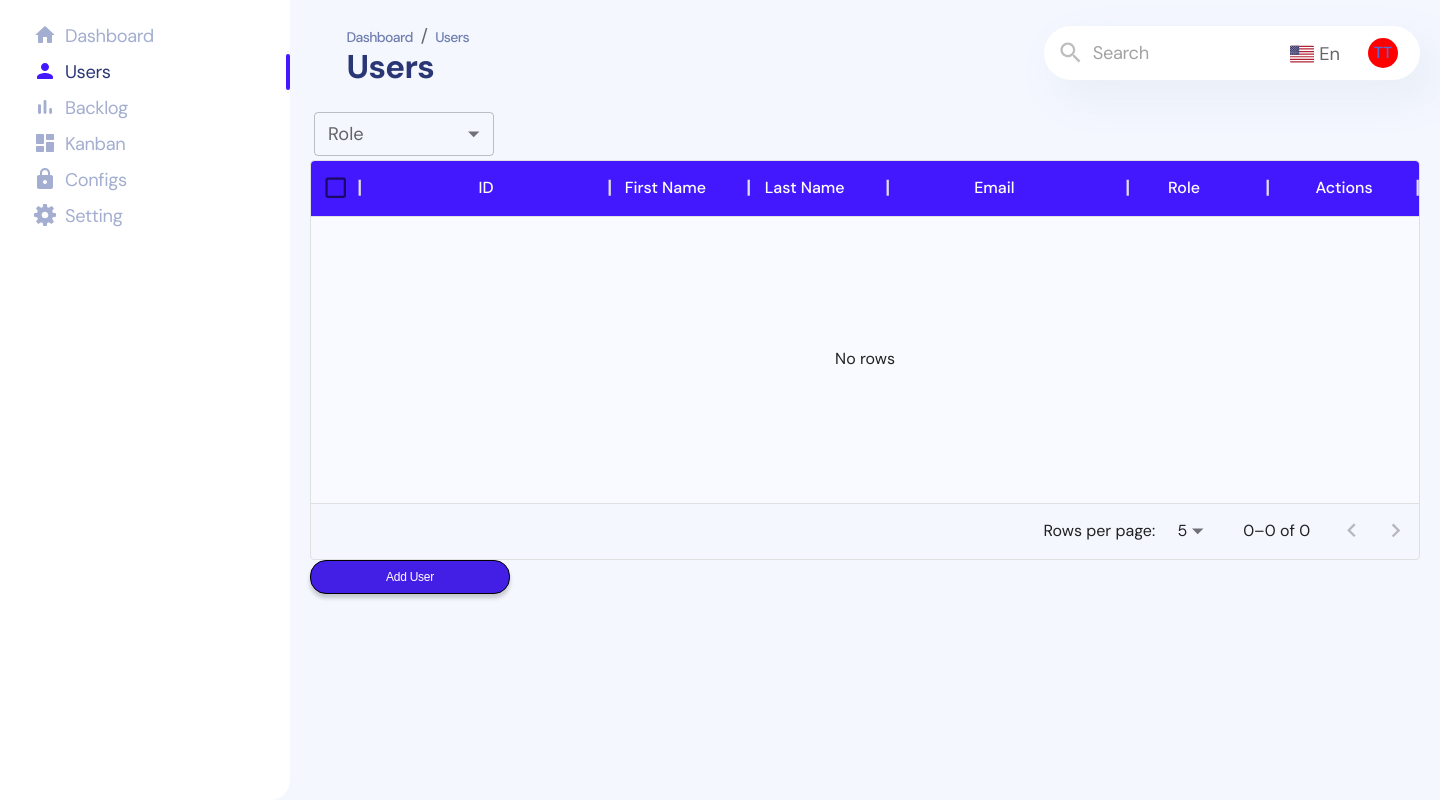
Test: Users API › Should display validation errors if fields are empty and submit is clicked
The width and height of the screenshot is (1440, 800).
Click the button with test id "addUser" at (410, 577), box left=310, top=560, right=510, bottom=594
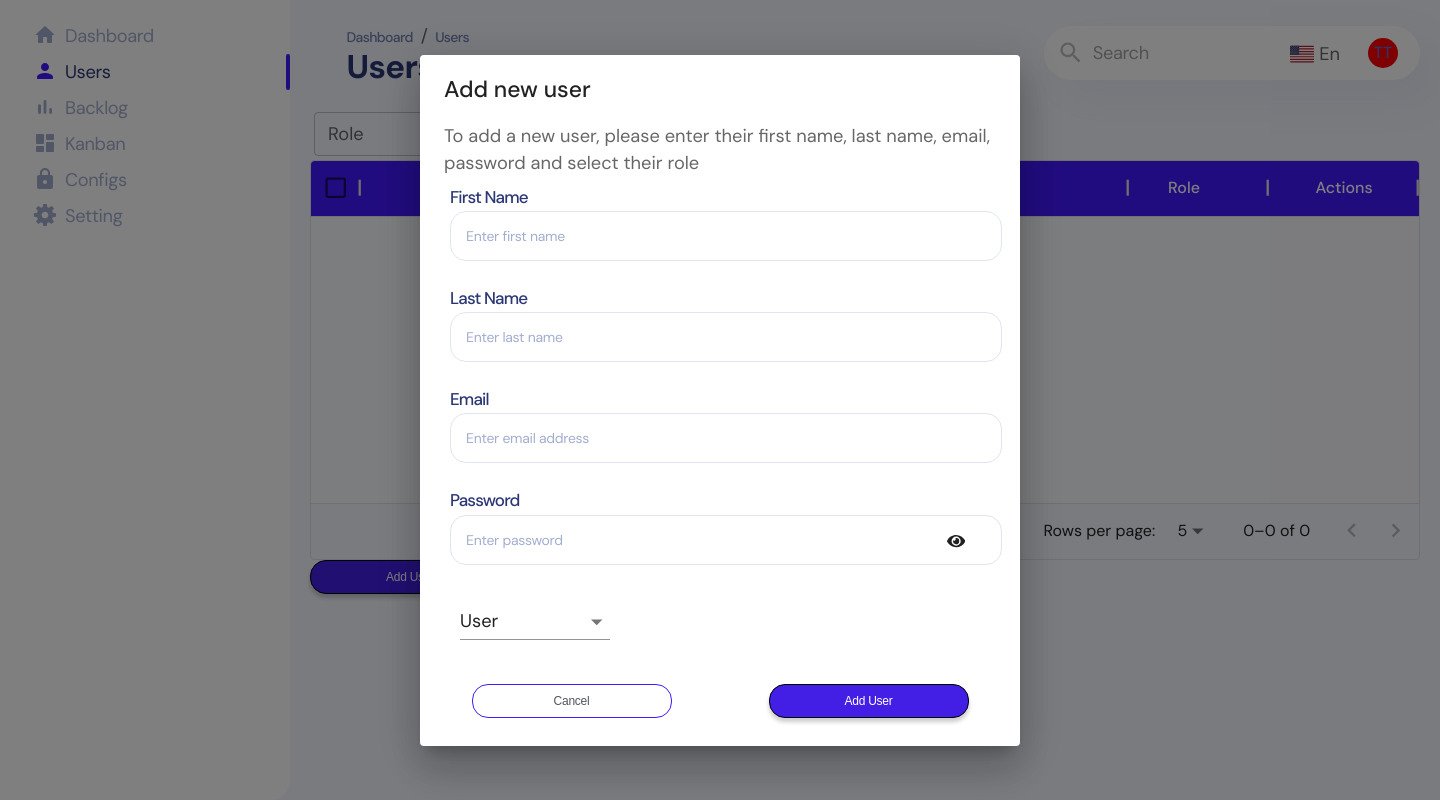
Click the button with test id "addUserSubmit" at (869, 701), box left=769, top=684, right=969, bottom=718
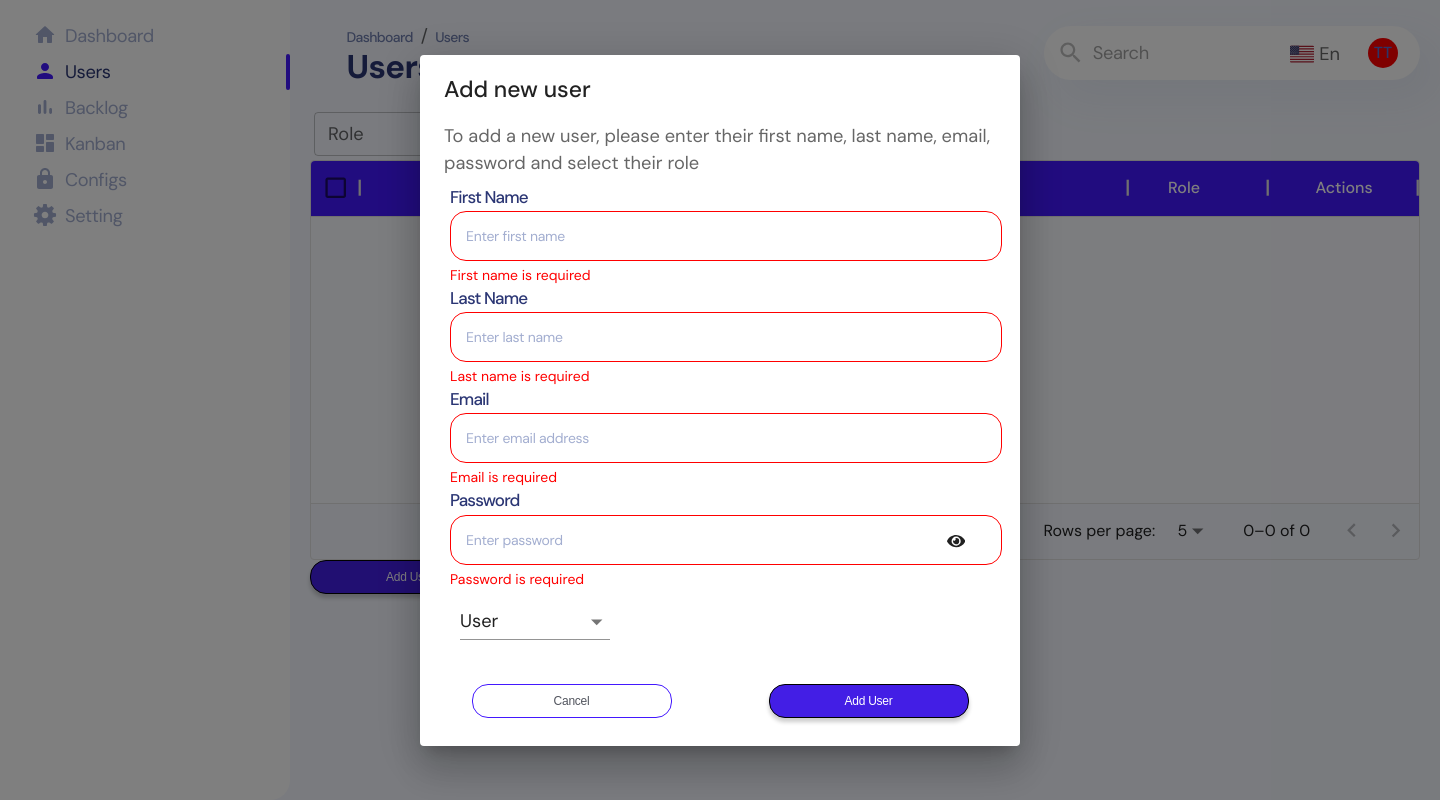
Expected: the text "First name is required" is shown, left=450, top=266, right=590, bottom=284
Expected: the text "Password is required" is shown, left=450, top=570, right=584, bottom=588
